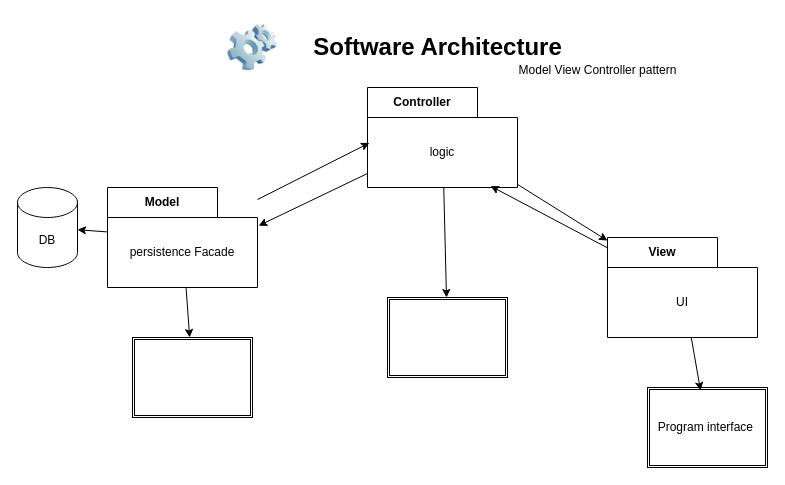
Image size: 785x485. Some labels were removed from this diagram. Each missing label, with the centre of its shape:
application logic & domain object layer: the point at 447,337
technical service layer: the point at 192,377
